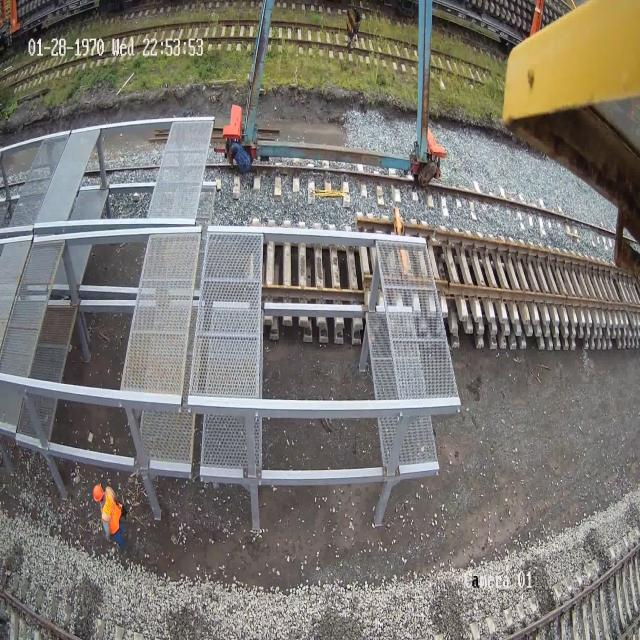Helmet: (93, 483, 103, 502)
Person: (92, 483, 126, 549)
